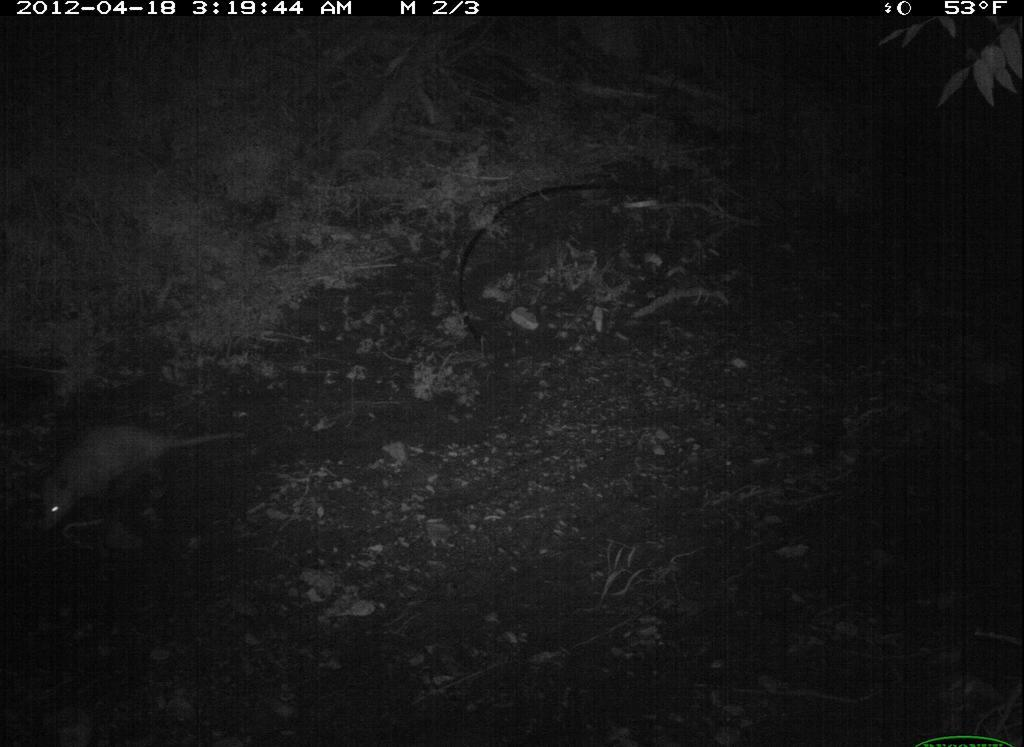opossum: (24, 404, 264, 543)
